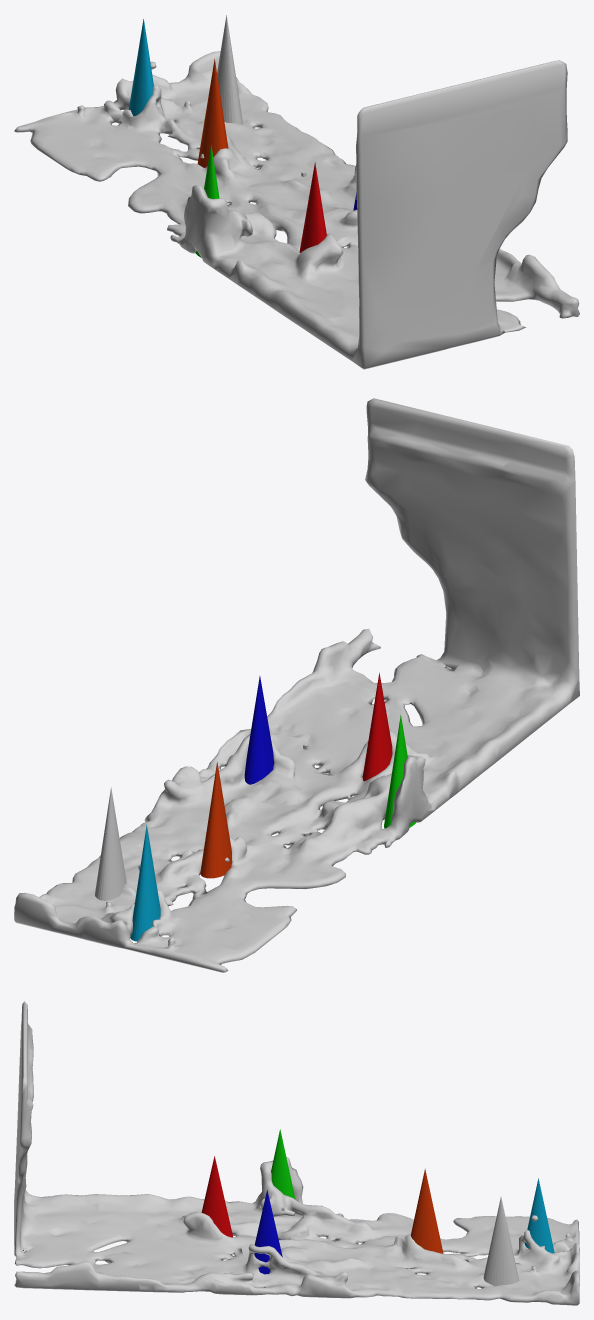
3 views of the same model, one above another, from view 1: azimuth 30°, elevation 25°; view 2: azimuth 150°, elevation 25°; view 3: azimuth 270°, elevation 25° (orthographic). The views are drawn at different scales.
Visible parts, largest first — view 1: Liquid_Domain, 円錐.004, 円錐, 円錐.005, 円錐.001, 円錐.003; view 2: Liquid_Domain, 円錐.004, 円錐, 円錐.002, 円錐.005, 円錐.001, 円錐.003; view 3: Liquid_Domain, 円錐, 円錐.004, 円錐.001, 円錐.002, 円錐.005, 円錐.003.
Boxes of the visible parts, x1,y1,x2,y2 form: Liquid_Domain: (14,51,579,369); 円錐.004: (197,58,228,167); 円錐: (217,15,242,124); 円錐.005: (129,19,156,115); 円錐.001: (299,162,326,252); 円錐.003: (195,144,219,257); Liquid_Domain: (14,398,579,972); 円錐.004: (200,762,232,878); 円錐: (95,787,126,900); 円錐.002: (244,676,274,784); 円錐.005: (130,824,160,941); 円錐.001: (362,672,392,781); 円錐.003: (384,714,416,828); Liquid_Domain: (14,1001,579,1305); 円錐: (483,1196,519,1286); 円錐.004: (410,1168,443,1253); 円錐.001: (201,1156,232,1237); 円錐.002: (254,1190,282,1274); 円錐.005: (525,1178,554,1253); 円錐.003: (271,1129,295,1198).
Size of the model in its own units: 129 by 157 by 361.
